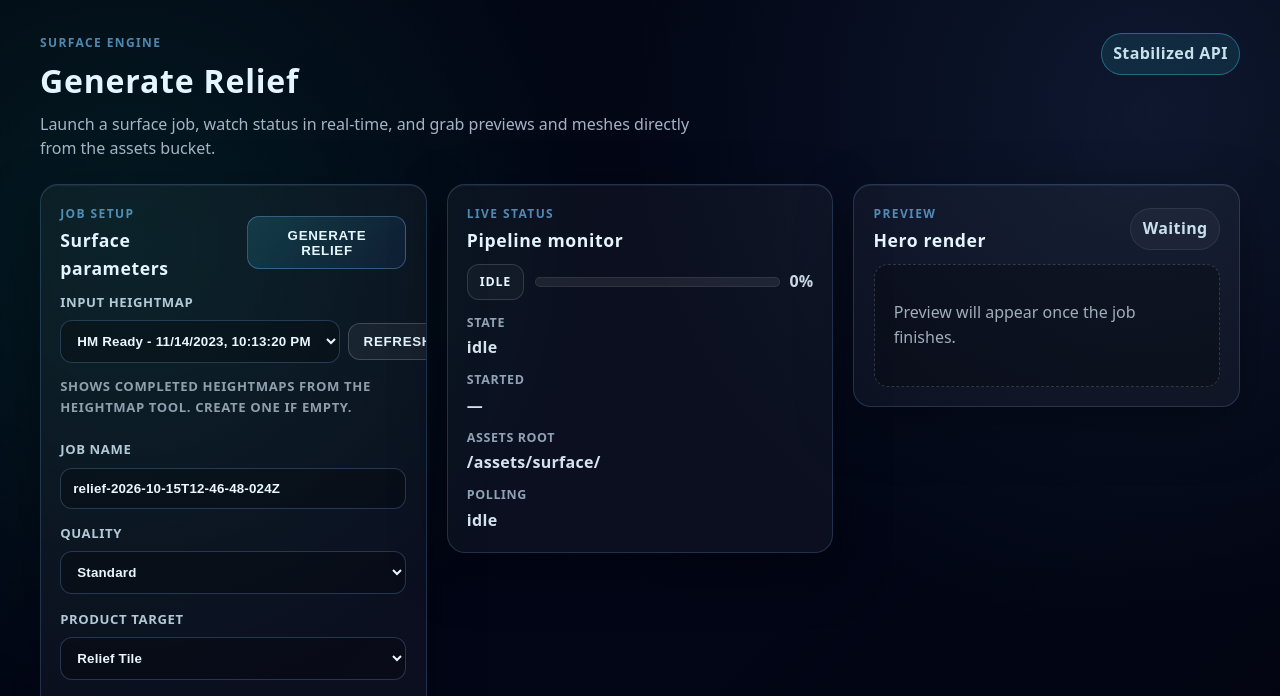
Test: SurfacePage heightmap integration › polls status, fetches manifest, and renders outputs
The width and height of the screenshot is (1280, 696).
Click the button "Generate Relief": (327, 243) [247,216,406,269]
(page scrolled)
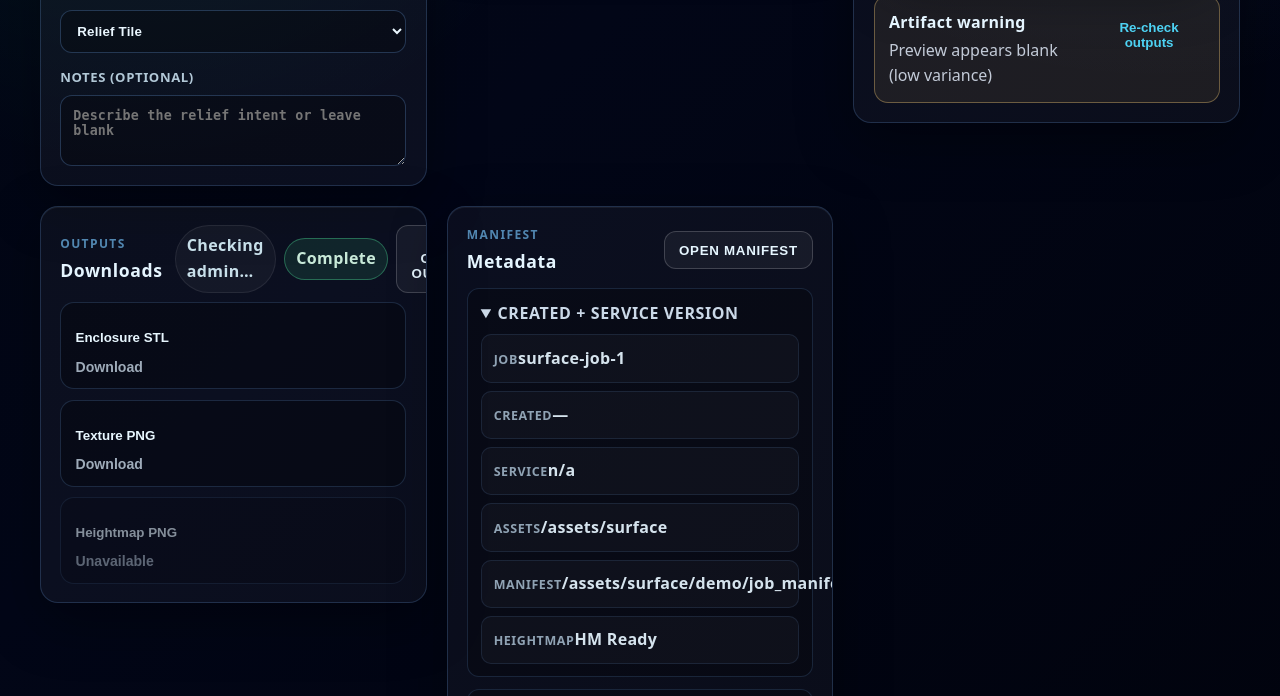
Expected: the button "Enclosure STL Download" is enabled, [60,302,406,389]
